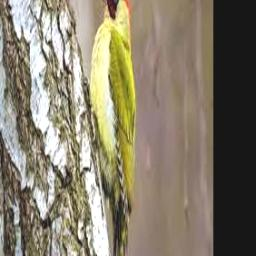Woodpecker: (82, 0, 137, 256)
